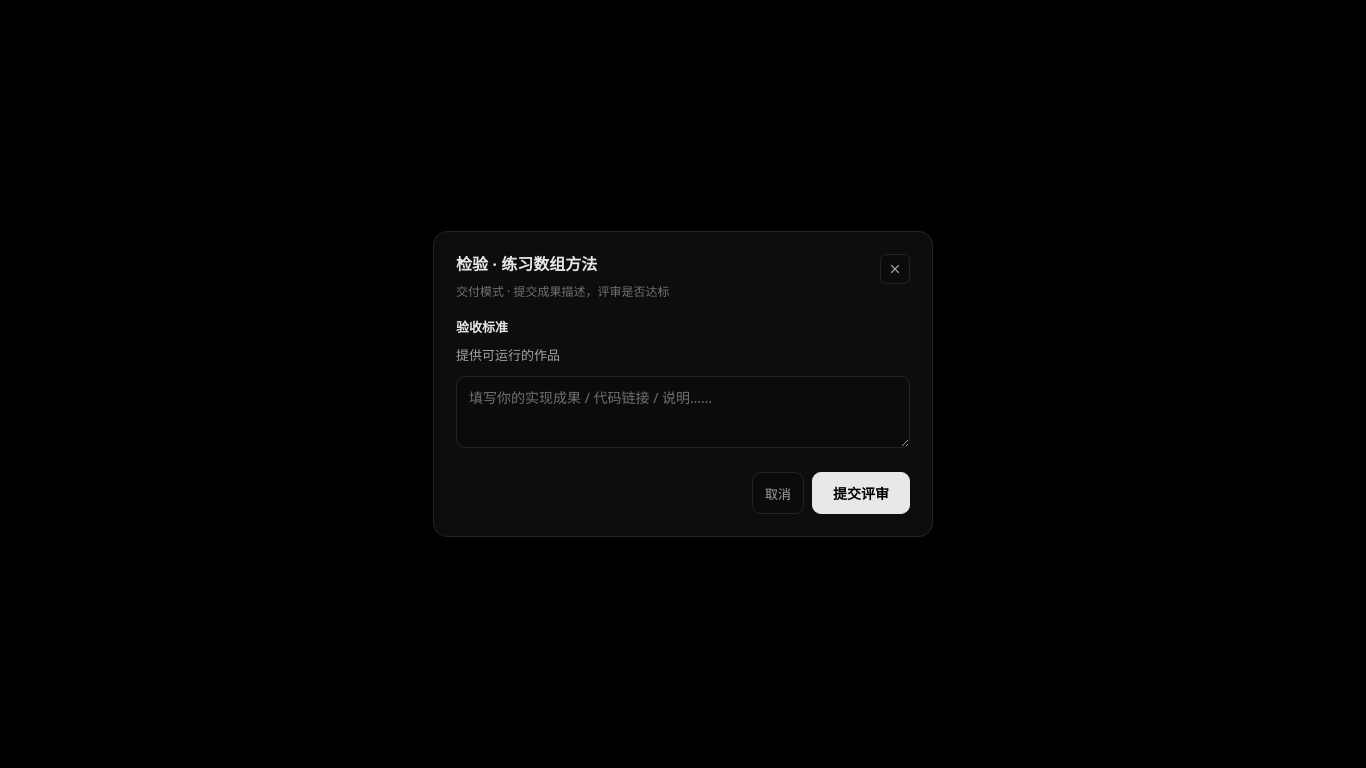
Test: VerificationModal › retains the delivery-mode result summary
Click the button "提交评审" at (861, 493), box [812,472,910,514]
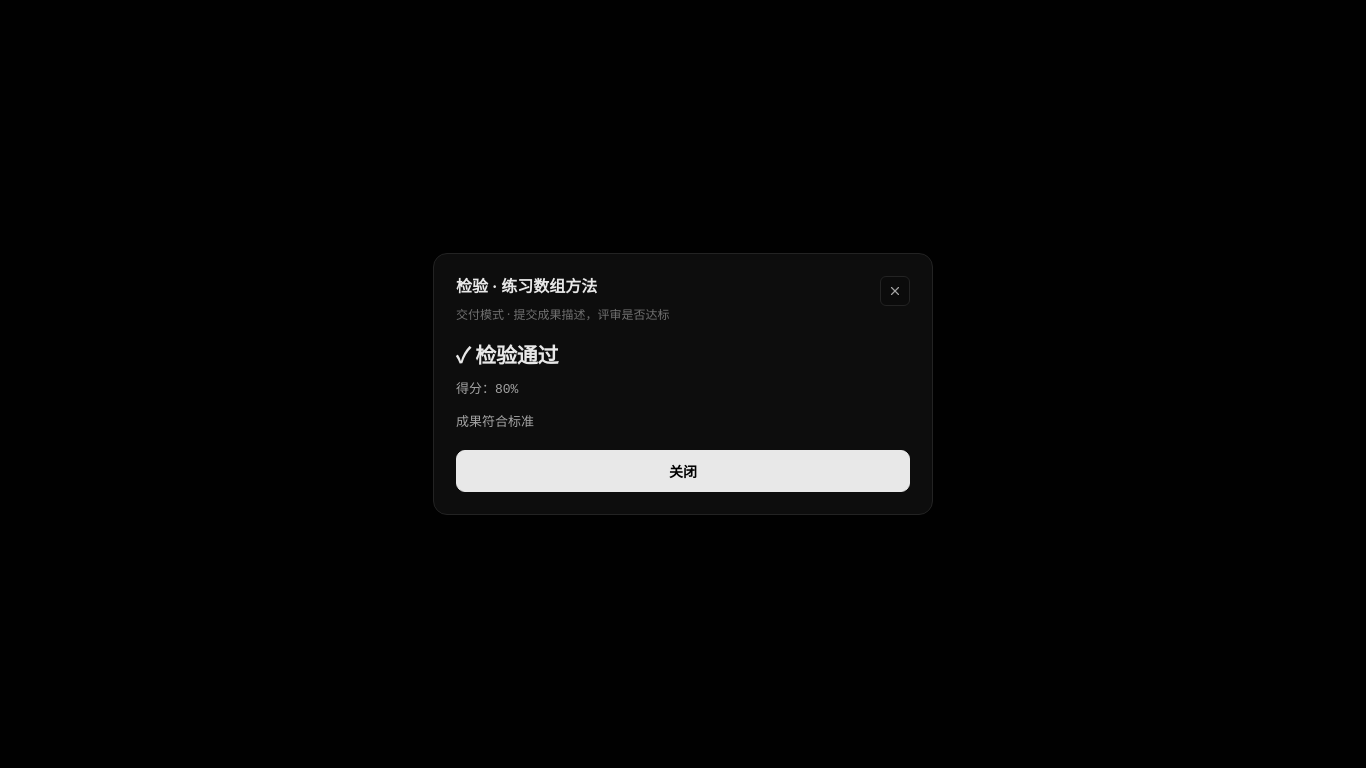
Now the text "得分：80%" is shown, box [456,382,518,397]
Now the text "成果符合标准" is shown, box [456,412,534,430]
